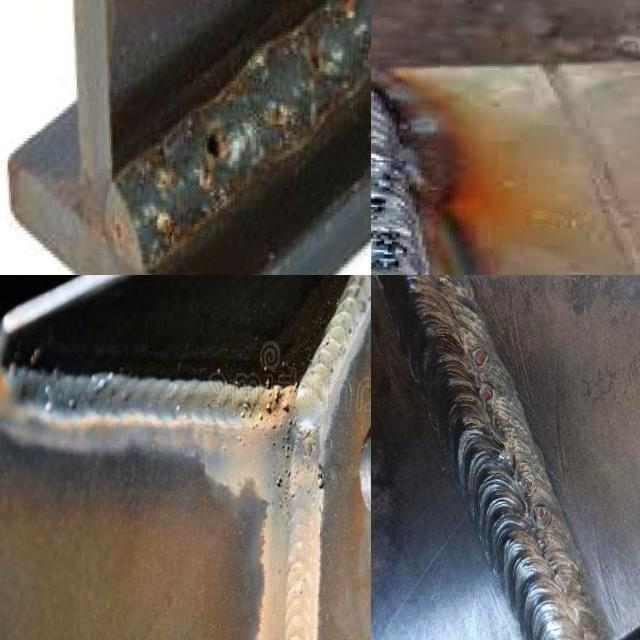defect: (229, 387, 296, 460), (371, 225, 415, 273), (200, 128, 226, 163), (313, 455, 326, 499), (470, 344, 492, 370), (272, 465, 293, 490), (371, 194, 392, 217), (477, 382, 497, 405), (534, 504, 552, 529), (518, 472, 534, 496), (503, 425, 518, 444)
